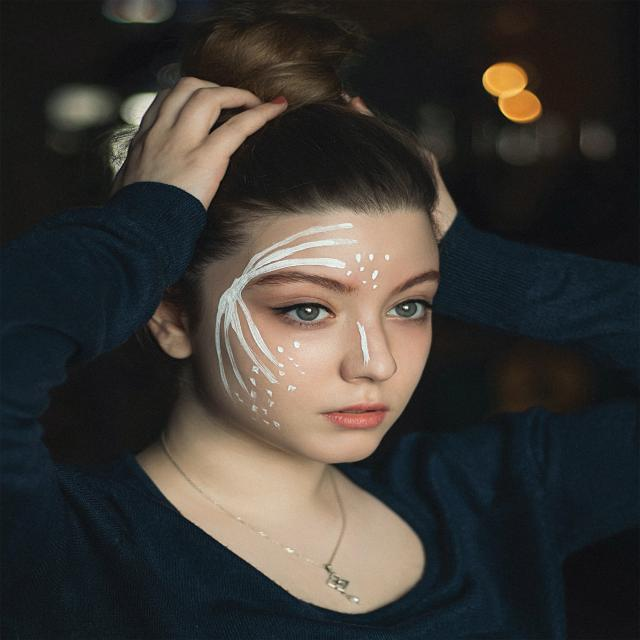adult: (0, 87, 632, 640)
